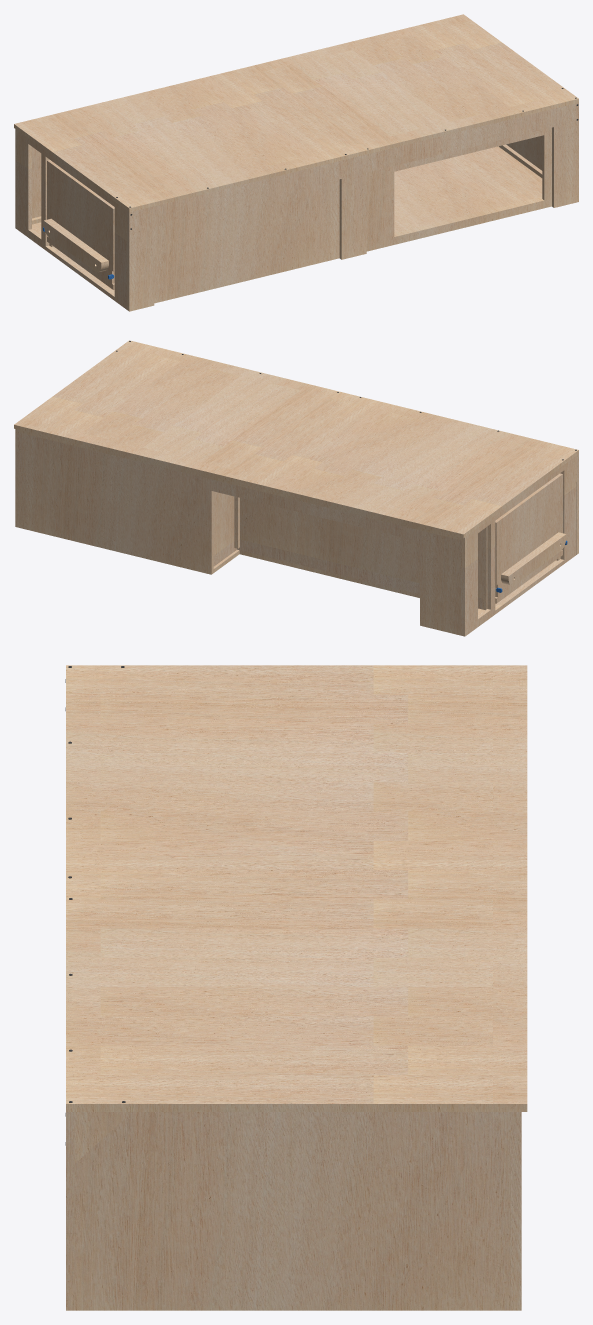
File: lit-peigne.dae
The picture shows the model from 3 angles, top to bottom: view 1: azimuth 30°, elevation 25°; view 2: azimuth 150°, elevation 25°; view 3: azimuth 270°, elevation 25°; orthographic projection. The views are drawn at different scales.
Visible parts, largest first — view 1: Peigne_fixe, Planche_face_longueur_13 (×2), Peigne_mobile_G, Peigne_droit, Planche_sol_LP_1, Pied_peigne_Gauche, Pied_peigne_droit, Planche_gauche_largeur_LP_10 (×3), Planche_cuisine_face_LP_9, Partie_inférieur_support_table_exterieur, Planche_droite_largeur_LP_11, Planche_fond_longueur_LP_12 (+1 smaller); view 2: Peigne_fixe, Planche_fond_longueur_LP_12, Peigne_mobile_G, Peigne_droit, Planche_support_gauche_glissière_LP_3, Planche_gauche_largeur_LP_10 (×2), Planche_cuisine_face_LP_9, Planche_milieu_LP_4, Planche_du_dessus_lit, Planche_sol_LP_1, Partie_inférieur_support_table_exterieur, Planche_droite_largeur_LP_11 (+1 smaller); view 3: Peigne_fixe, Planche_droite_largeur_LP_11, Peigne_droit, Peigne_mobile_G, Pied_peigne_droit, Triangle_pied_droit_.
Boxes of the visible parts, left/top/right/bottom form: Peigne_fixe: left=14, top=14, right=539, bottom=194; Planche_face_longueur_13 (×2): left=154, top=127, right=551, bottom=303; Peigne_mobile_G: left=22, top=79, right=354, bottom=212; Peigne_droit: left=262, top=20, right=578, bottom=157; Planche_sol_LP_1: left=32, top=146, right=542, bottom=292; Pied_peigne_Gauche: left=127, top=157, right=354, bottom=311; Pied_peigne_droit: left=354, top=102, right=578, bottom=256; Planche_gauche_largeur_LP_10 (×3): left=15, top=129, right=127, bottom=309; Planche_cuisine_face_LP_9: left=47, top=160, right=114, bottom=289; Partie_inférieur_support_table_exterieur: left=43, top=219, right=105, bottom=272; Planche_droite_largeur_LP_11: left=506, top=136, right=542, bottom=170; Planche_fond_longueur_LP_12: left=32, top=147, right=41, bottom=218; Peigne_fixe: left=14, top=354, right=539, bottom=538; Planche_fond_longueur_LP_12: left=19, top=432, right=461, bottom=635; Peigne_mobile_G: left=263, top=395, right=578, bottom=531; Peigne_droit: left=23, top=340, right=353, bottom=469; Planche_support_gauche_glissière_LP_3: left=237, top=498, right=485, bottom=610; Planche_gauche_largeur_LP_10 (×2): left=461, top=466, right=576, bottom=636; Planche_cuisine_face_LP_9: left=495, top=473, right=562, bottom=603; Planche_milieu_LP_4: left=213, top=491, right=236, bottom=566; Planche_du_dessus_lit: left=19, top=430, right=461, bottom=539; Planche_sol_LP_1: left=213, top=549, right=557, bottom=615; Partie_inférieur_support_table_exterieur: left=504, top=533, right=566, bottom=585; Planche_droite_largeur_LP_11: left=15, top=429, right=19, bottom=527; Peigne_fixe: left=100, top=665, right=527, bottom=1111; Planche_droite_largeur_LP_11: left=74, top=1112, right=521, bottom=1310; Peigne_droit: left=66, top=884, right=492, bottom=1111; Peigne_mobile_G: left=66, top=665, right=492, bottom=884; Pied_peigne_droit: left=66, top=1112, right=74, bottom=1310; Triangle_pied_droit_: left=74, top=1112, right=131, bottom=1163.
Size of the model in its own units: 72.08 by 31.53 by 15.58.
11 materials, 3 textured.
